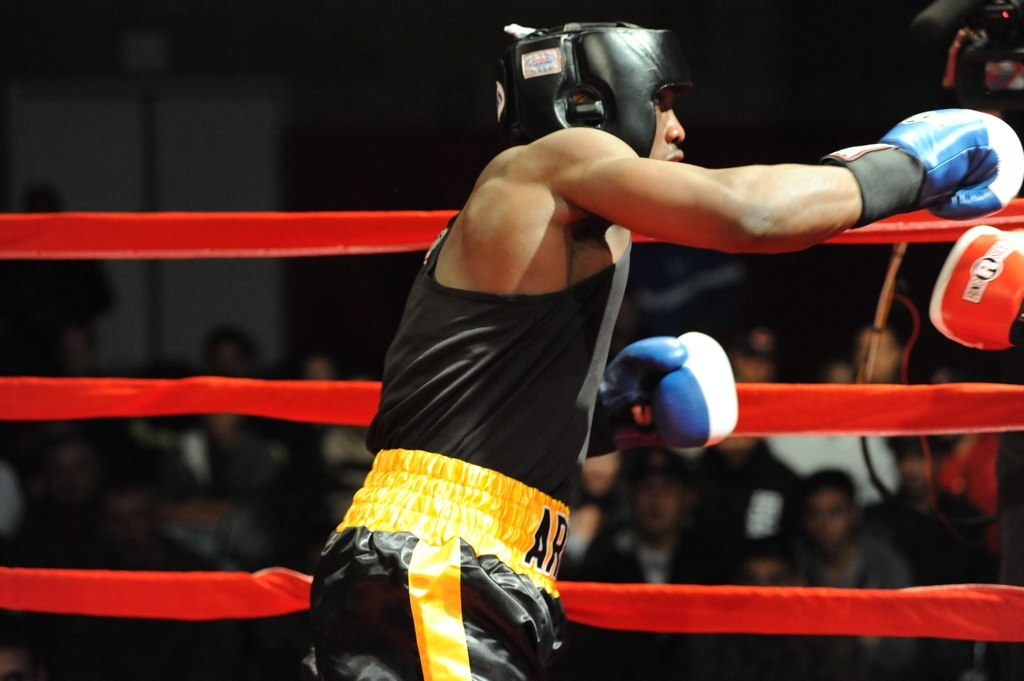person: (140, 409, 295, 571)
